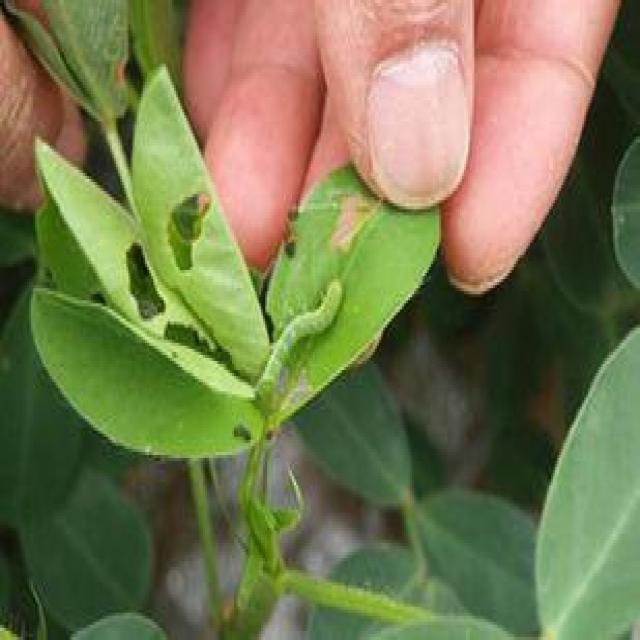BeetArmyWorm-Larva-: (250, 271, 348, 405)
